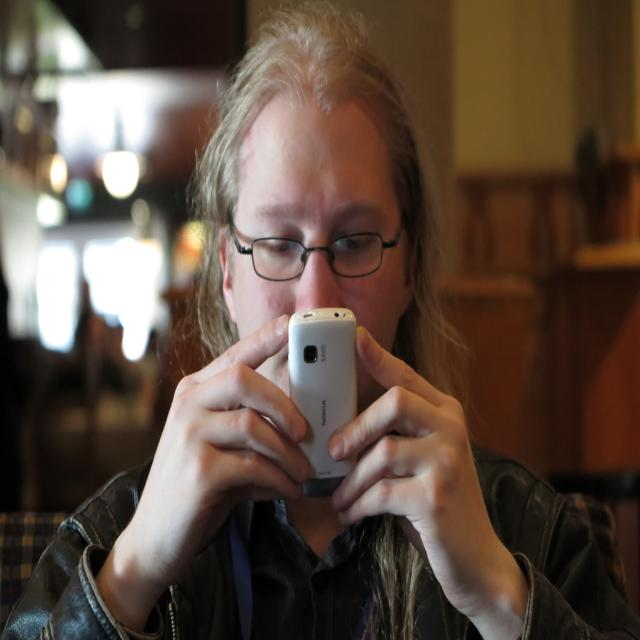Mobile-phone: (276, 316, 366, 460)
